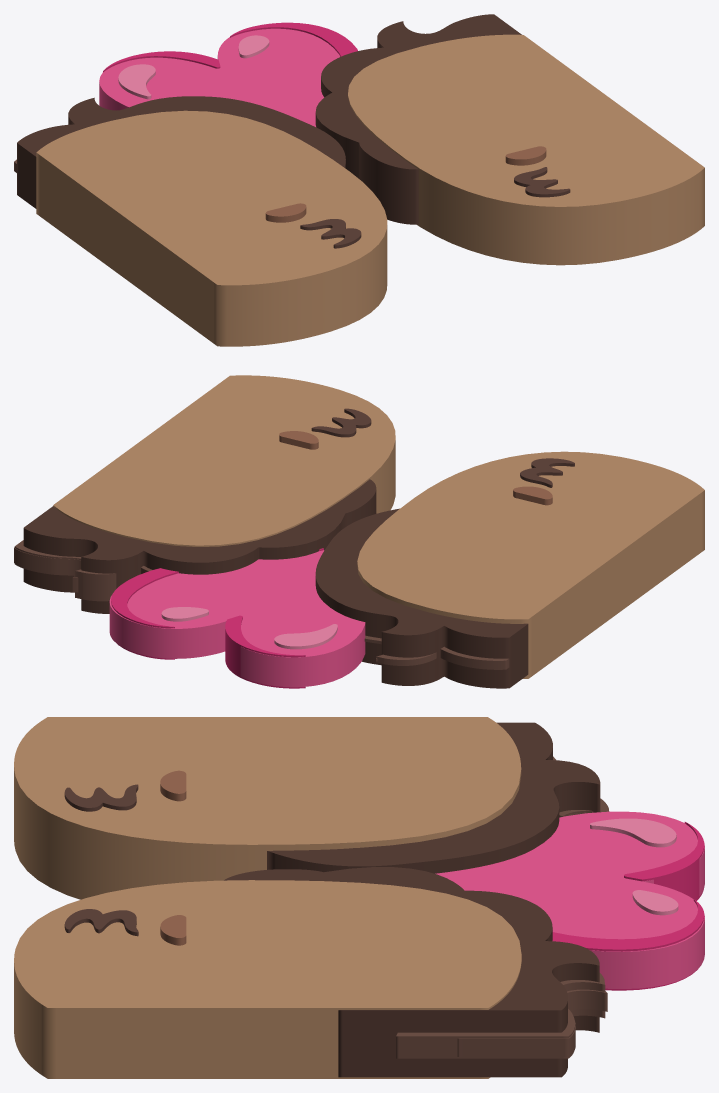
File: emoji_u1f48f_1f3fd.glb
The picture shows the model from 3 angles, top to bottom: view 1: azimuth 30°, elevation 25°; view 2: azimuth 150°, elevation 25°; view 3: azimuth 270°, elevation 25°; orthographic projection. The views are drawn at different scales.
Parts seen in each view (by area): view 1: emoji_u1f48f_1f3fd; view 2: emoji_u1f48f_1f3fd; view 3: emoji_u1f48f_1f3fd.
Part boxes in pixels (<box>): emoji_u1f48f_1f3fd: <box>14,14,704,346</box>; emoji_u1f48f_1f3fd: <box>14,375,704,688</box>; emoji_u1f48f_1f3fd: <box>14,717,704,1078</box>.
Bounding box in the file's own units: 0.0338 × 0.0048 × 0.0336.
